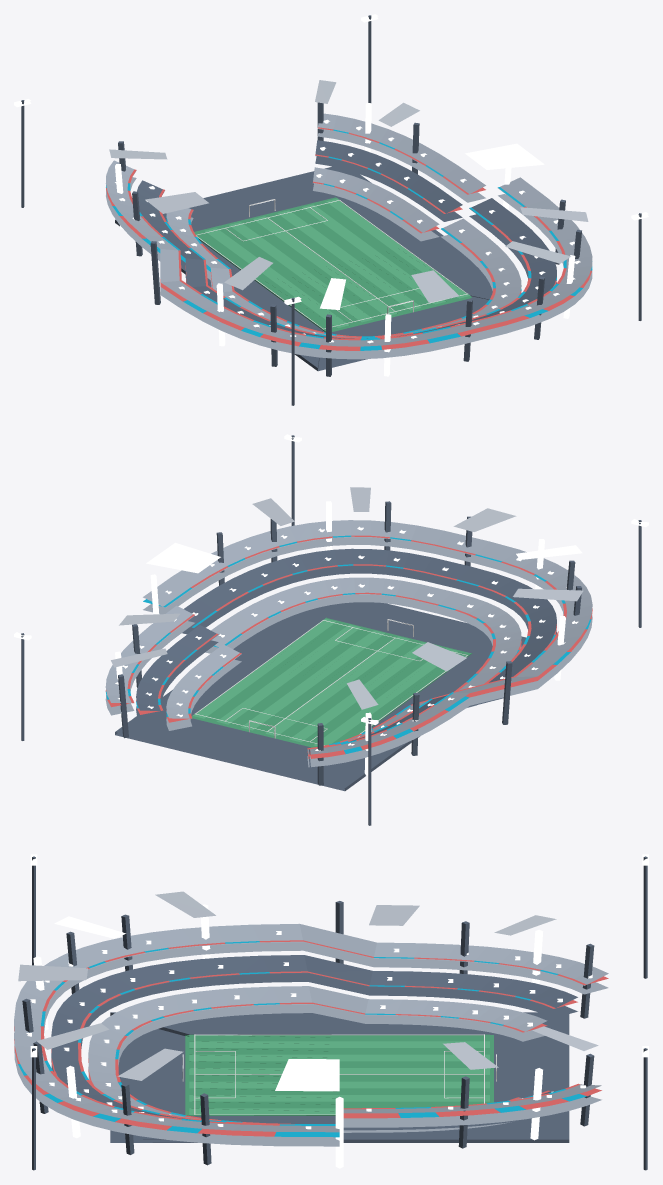
The model's file is fonte-nova.glb.
3 views of the same model, one above another, from view 1: azimuth 30°, elevation 25°; view 2: azimuth 150°, elevation 25°; view 3: azimuth 270°, elevation 25° (orthographic). The views are drawn at different scales.
Visible parts, largest first — view 1: Arena Fonte Nova; view 2: Arena Fonte Nova; view 3: Arena Fonte Nova.
Part boxes in pixels (box(x1,y1,x2,y2)): Arena Fonte Nova: box(14, 14, 648, 405); Arena Fonte Nova: box(14, 434, 648, 825); Arena Fonte Nova: box(14, 854, 648, 1170).
Size of the model in its own units: 62.33 by 17.65 by 80.24.
